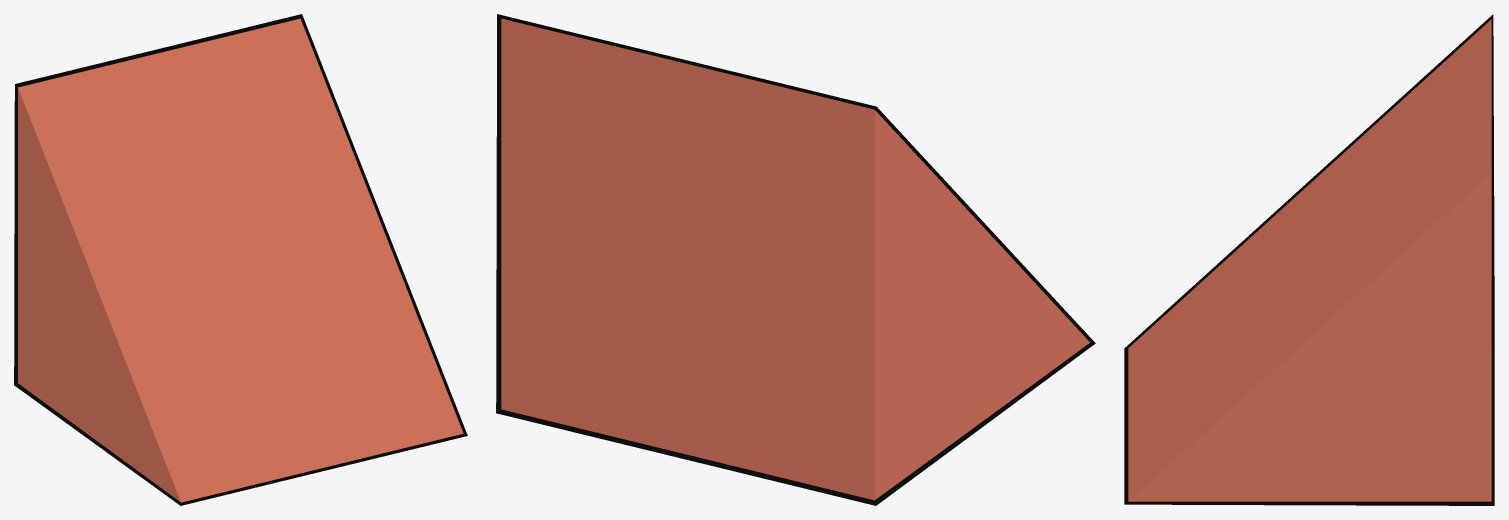
The model's file is ramp.glb.
3 renders of one model, left to right at view 1: azimuth 30°, elevation 25°; view 2: azimuth 150°, elevation 25°; view 3: azimuth 270°, elevation 25°, orthographic. The views are drawn at different scales.
Visible parts, largest first — view 1: Cube; view 2: Cube; view 3: Cube.
Part boxes in pixels (<box>): Cube: <box>14,14,467,505</box>; Cube: <box>496,14,1095,505</box>; Cube: <box>1124,14,1494,505</box>.
Size of the model in its own units: 2.03 by 2.04 by 2.04.
Materials: 2 (1 with a texture image).
